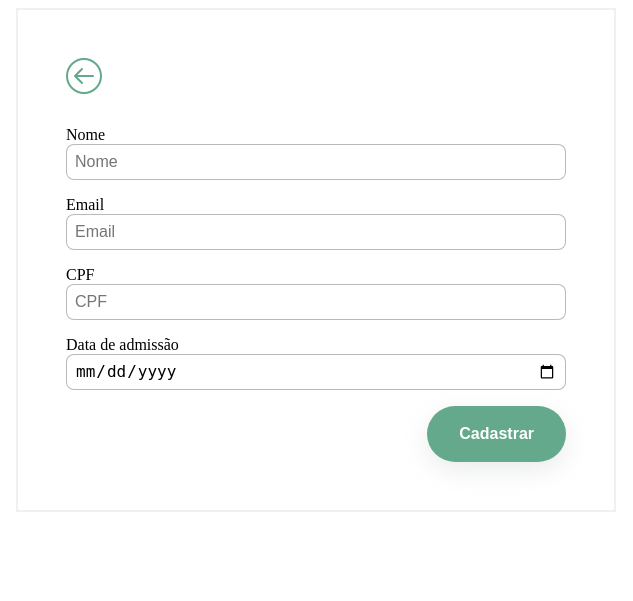
Test: NewUserPage Integration › should show required message when submit the form with empty inputs
Click the button with test id "submit-form".
click(497, 434)  # box [427,406,566,462]
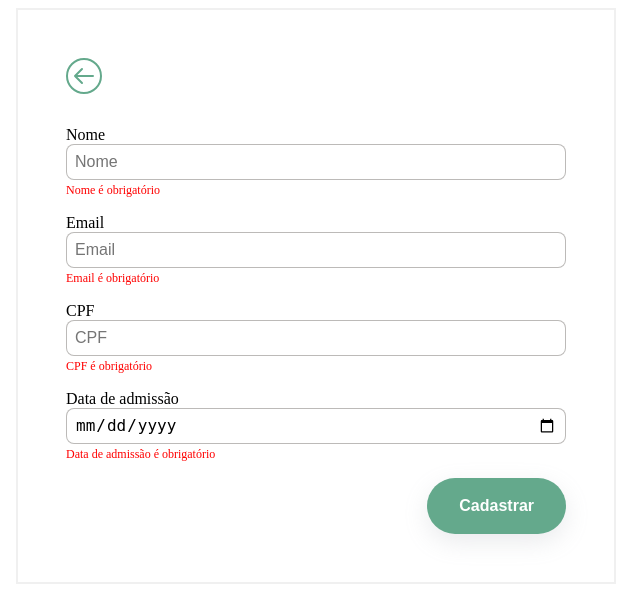
Result: the text with test id "error-text-field-name" reads "Nome é obrigatório" at [66,183,160,197]
Result: the text with test id "error-text-field-email" reads "Email é obrigatório" at [66,271,159,285]
Result: the text with test id "error-text-field-cpf" reads "CPF é obrigatório" at [66,359,152,373]
